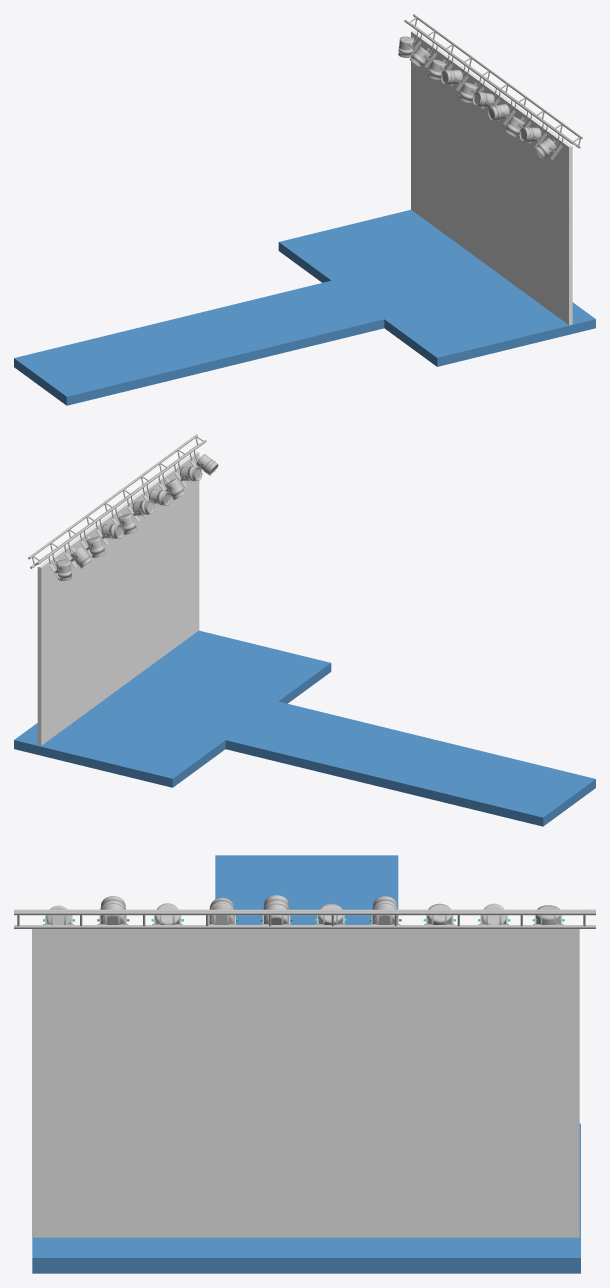
File: Stage1.glb
3 views of the same model, one above another, from view 1: azimuth 30°, elevation 25°; view 2: azimuth 150°, elevation 25°; view 3: azimuth 270°, elevation 25° (orthographic). The views are drawn at different scales.
Parts seen in each view (by area): view 1: Box001, Box002, Cylinder001, Cylinder002; view 2: Box001, Box002, Cylinder001, Cylinder002; view 3: Box002, Box001, Cylinder002, Cylinder003, Cylinder001, Cylinder037_1.
Part boxes in pixels (x1,y1,x2,y2): Box001: (14, 210, 595, 405); Box002: (411, 30, 572, 325); Cylinder001: (404, 19, 573, 144); Cylinder002: (413, 14, 582, 139); Box001: (14, 630, 595, 826); Box002: (37, 451, 199, 745); Cylinder001: (36, 440, 206, 564); Cylinder002: (28, 434, 197, 559); Box002: (32, 929, 579, 1237); Box001: (32, 855, 580, 1273); Cylinder002: (14, 911, 595, 915); Cylinder003: (14, 925, 595, 928); Cylinder001: (14, 909, 595, 910); Cylinder037_1: (263, 895, 289, 924).
Bounding box in the file's own units: 0.2802 × 0.1122 × 0.1711.
